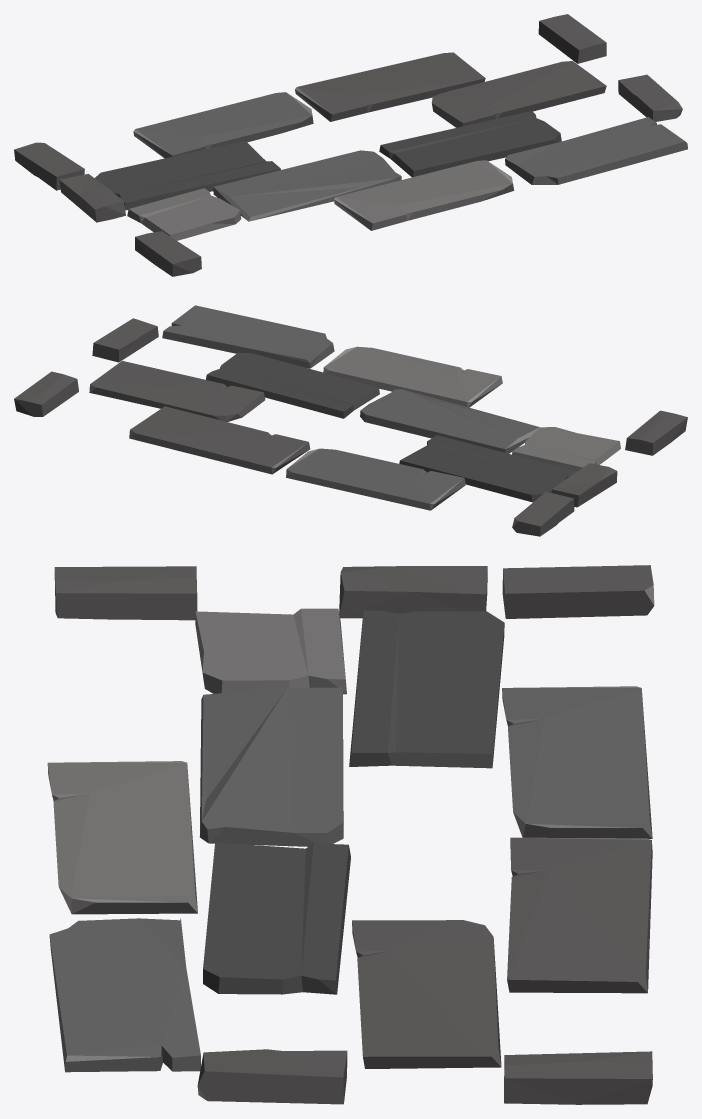
File: StonePathBroken_03.glb
3 views of the same model, one above another, from view 1: azimuth 30°, elevation 25°; view 2: azimuth 150°, elevation 25°; view 3: azimuth 270°, elevation 25° (orthographic). The views are drawn at different scales.
Visible parts, largest first — view 1: StonePathBroken_03; view 2: StonePathBroken_03; view 3: StonePathBroken_03.
Part boxes in pixels (box(x1,y1,x2,y2)): StonePathBroken_03: box(14, 14, 687, 276); StonePathBroken_03: box(14, 305, 687, 536); StonePathBroken_03: box(47, 565, 654, 1104).
Size of what is drawn, in the model's own units: 1.99 by 0.0546 by 0.995.
1 material, 1 textured.
